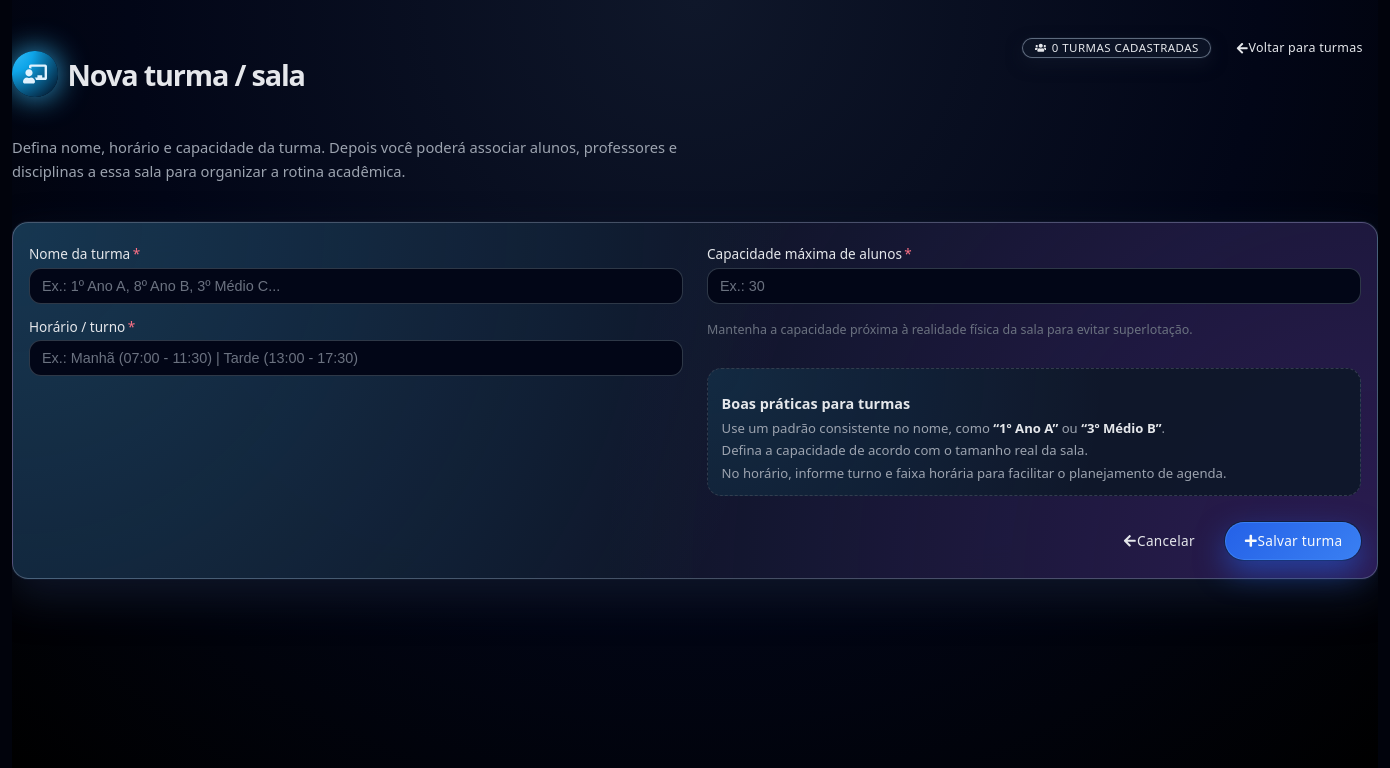
Test: ClassRoomCreatePage (dashboard) › valida capacidade com valor inválido
In the field labelled "Nome da turma*": x=356, y=286 [29, 268, 683, 304], type "1º Ano A"
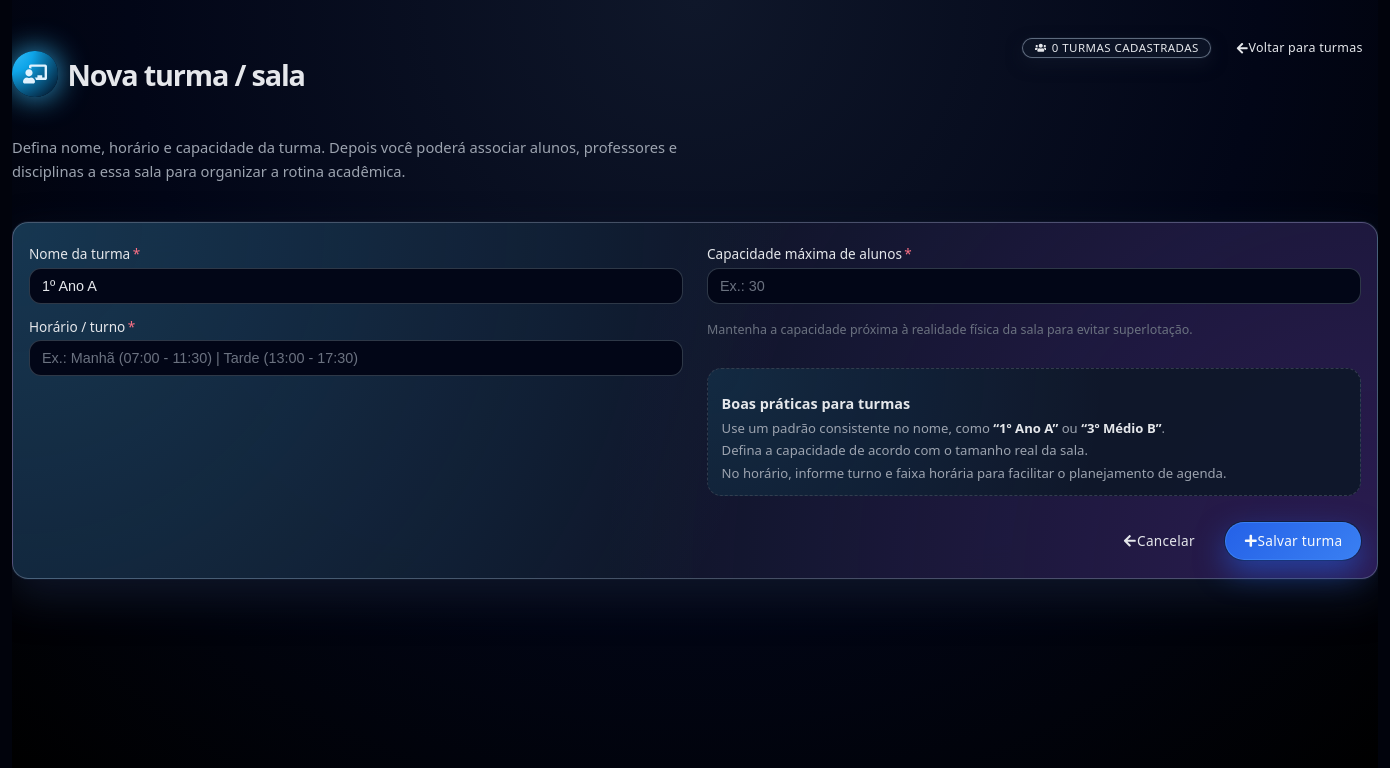
In the field labelled "Horário / turno*": x=356, y=358 [29, 340, 683, 376], type "Manhã (07:00 - 11:30)"
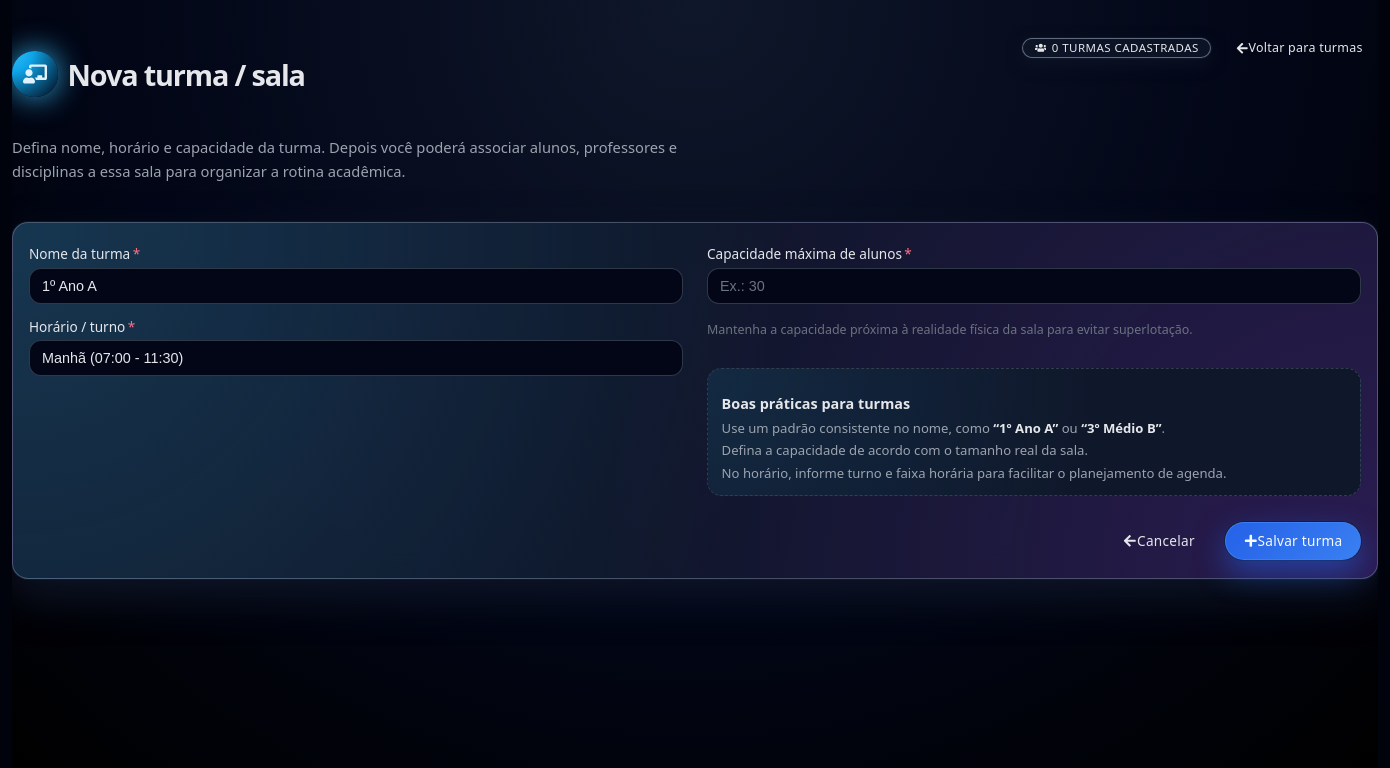
In the number field labelled "Capacidade máxima de alunos*": x=1034, y=286 [707, 268, 1361, 304], type "0"
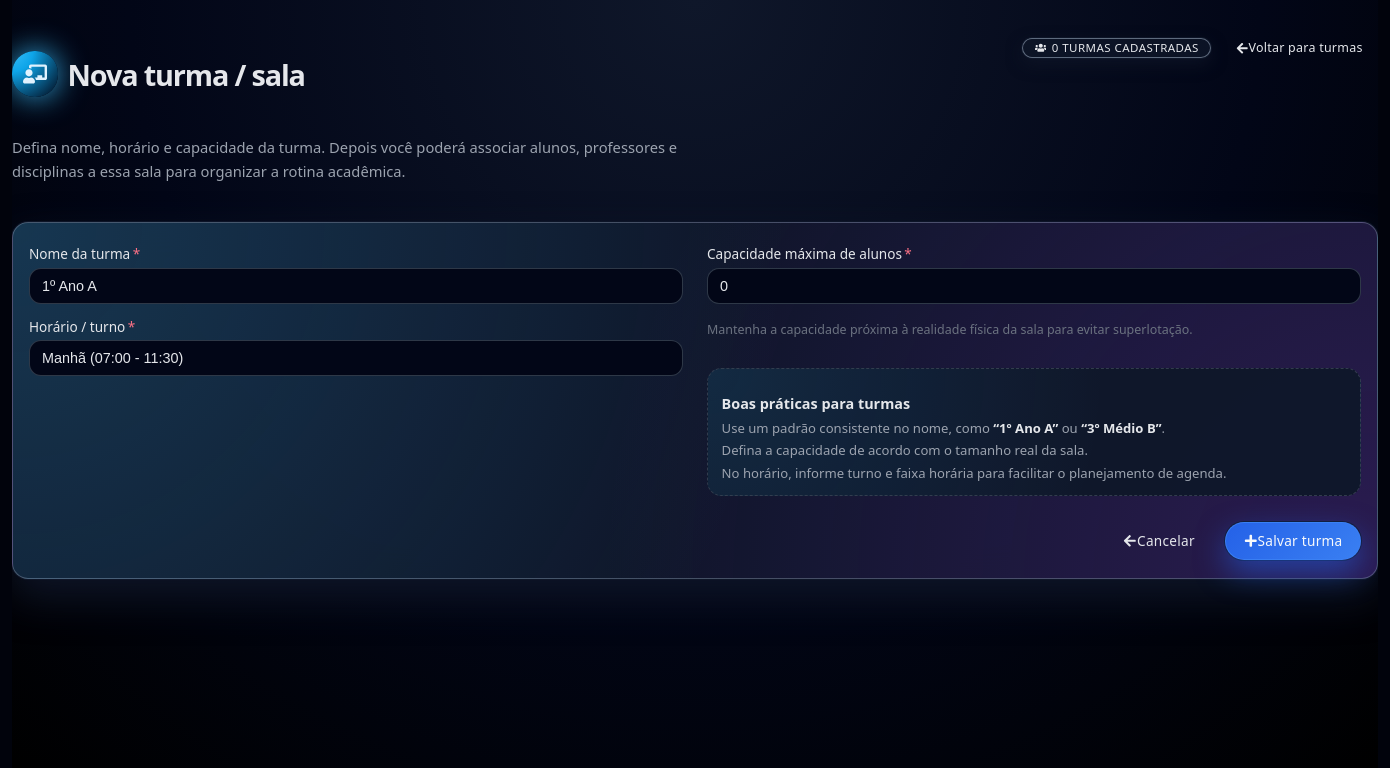
Click the button "Salvar turma": x=1293, y=541 [1225, 522, 1361, 560]
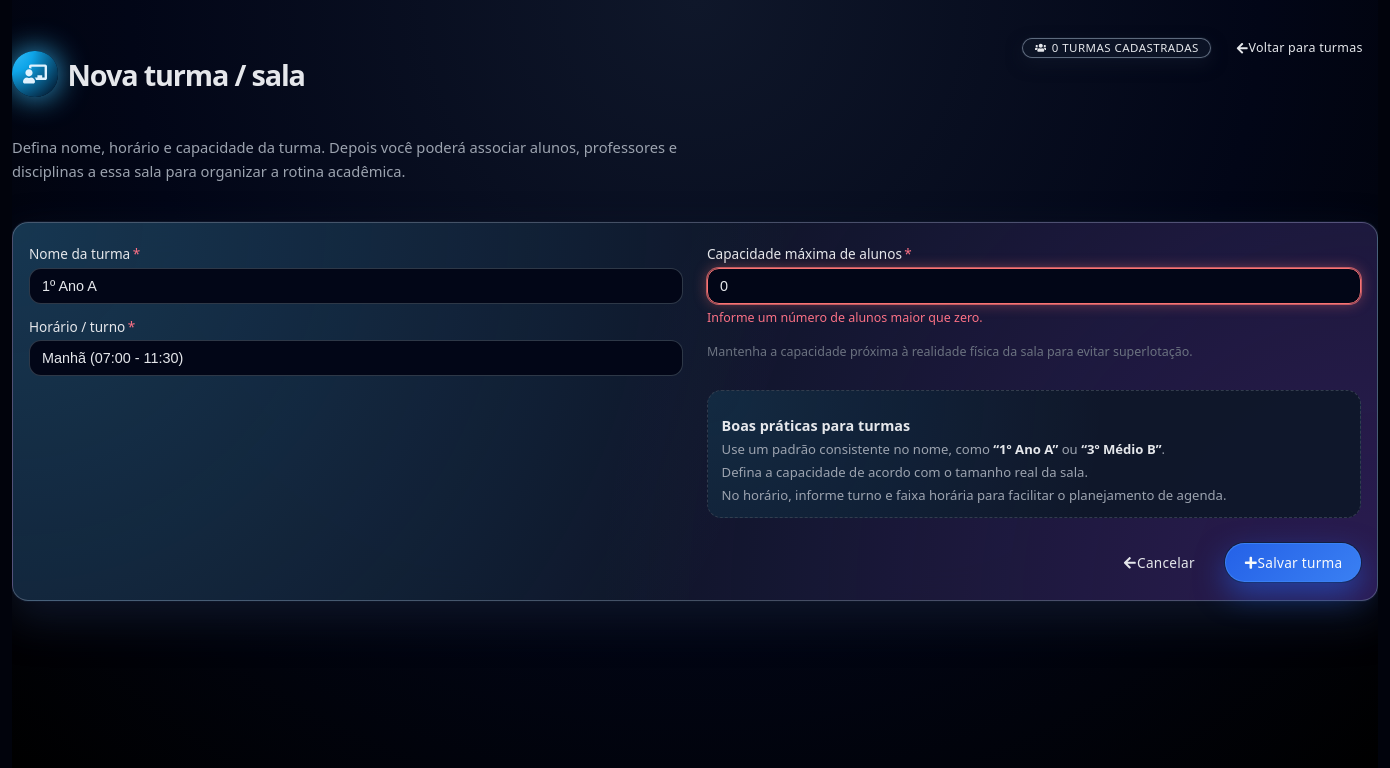
Expected: the text "Informe um número de alunos maior que zero." is shown, [707, 309, 983, 326]
